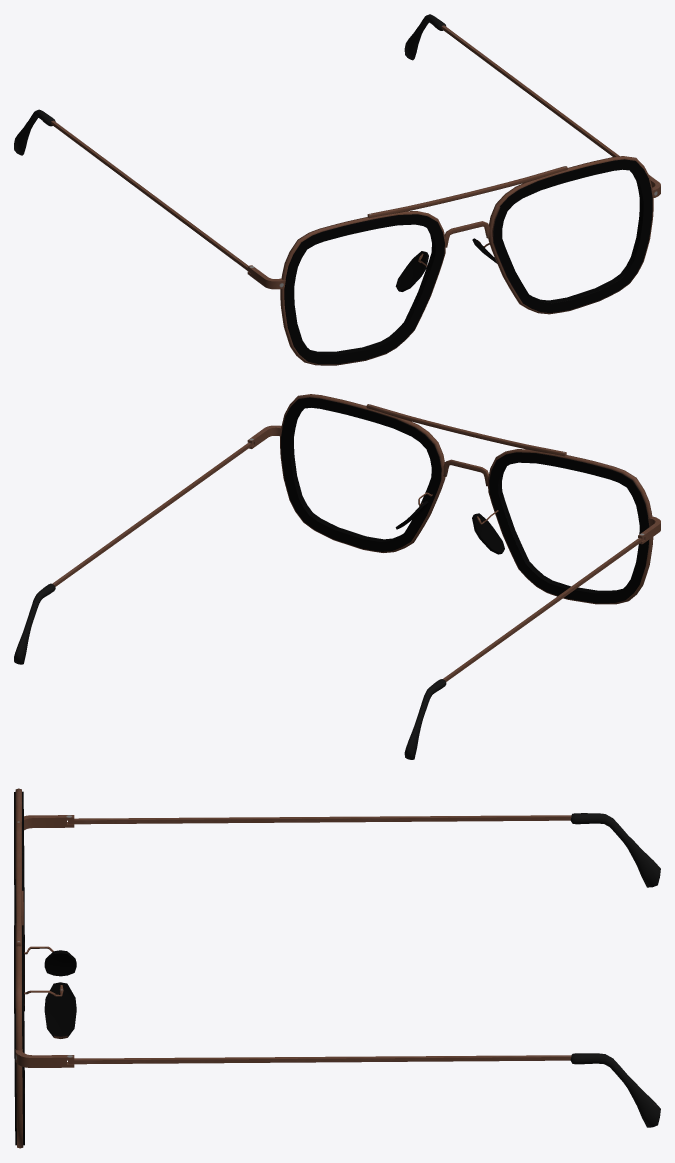
The model's file is el-professor.gltf.
The picture shows the model from 3 angles, top to bottom: view 1: azimuth 30°, elevation 25°; view 2: azimuth 150°, elevation 25°; view 3: azimuth 270°, elevation 25°; orthographic projection. The views are drawn at different scales.
Parts seen in each view (by area): view 1: Cube.001__0; view 2: Cube.001__0; view 3: Cube.001__0.
Part boxes in pixels (x1,y1,x2,y2): Cube.001__0: (14, 14, 660, 365); Cube.001__0: (14, 394, 660, 759); Cube.001__0: (14, 788, 660, 1148).
Bounding box in the file's own units: 0.1592 × 0.0555 × 0.1775.
1 material, 1 textured.
